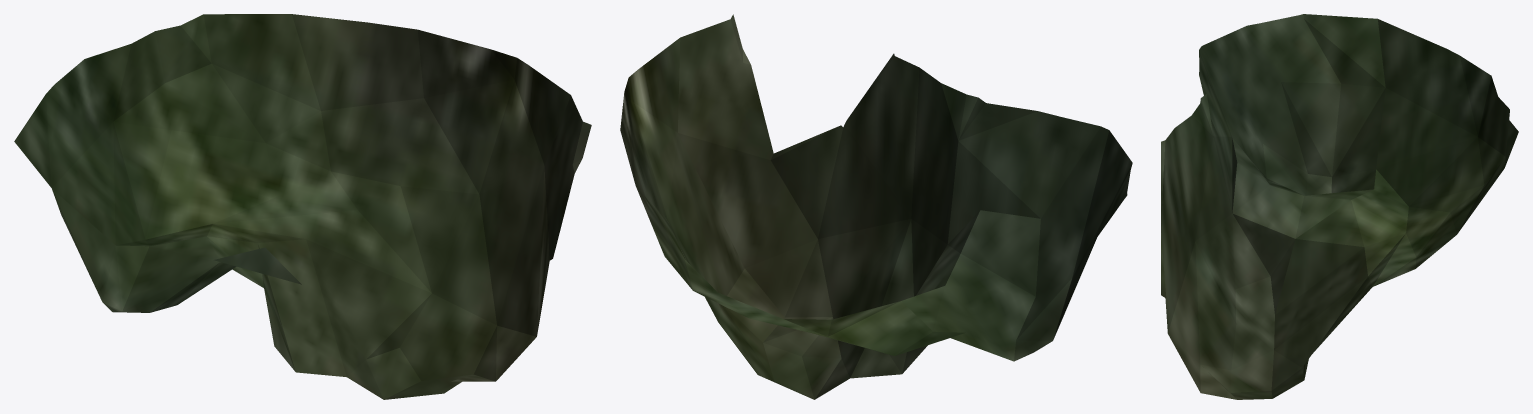
3 views of the same model, side by side, from view 1: azimuth 30°, elevation 25°; view 2: azimuth 150°, elevation 25°; view 3: azimuth 270°, elevation 25° (orthographic). The views are drawn at different scales.
Bounding box in the file's own units: 2.12 × 1.22 × 1.62.
Materials: 1 (1 with a texture image).
